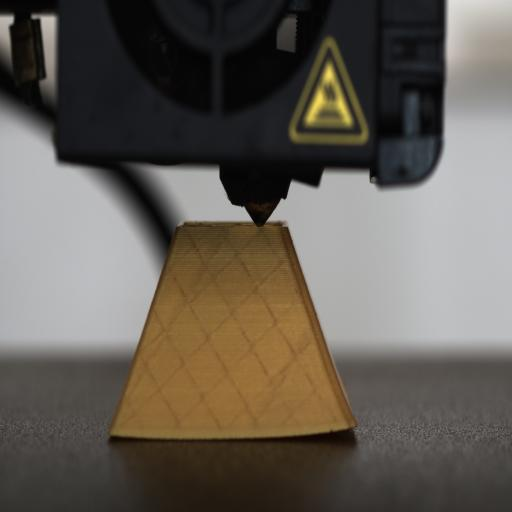warp: (317, 403, 362, 445)
